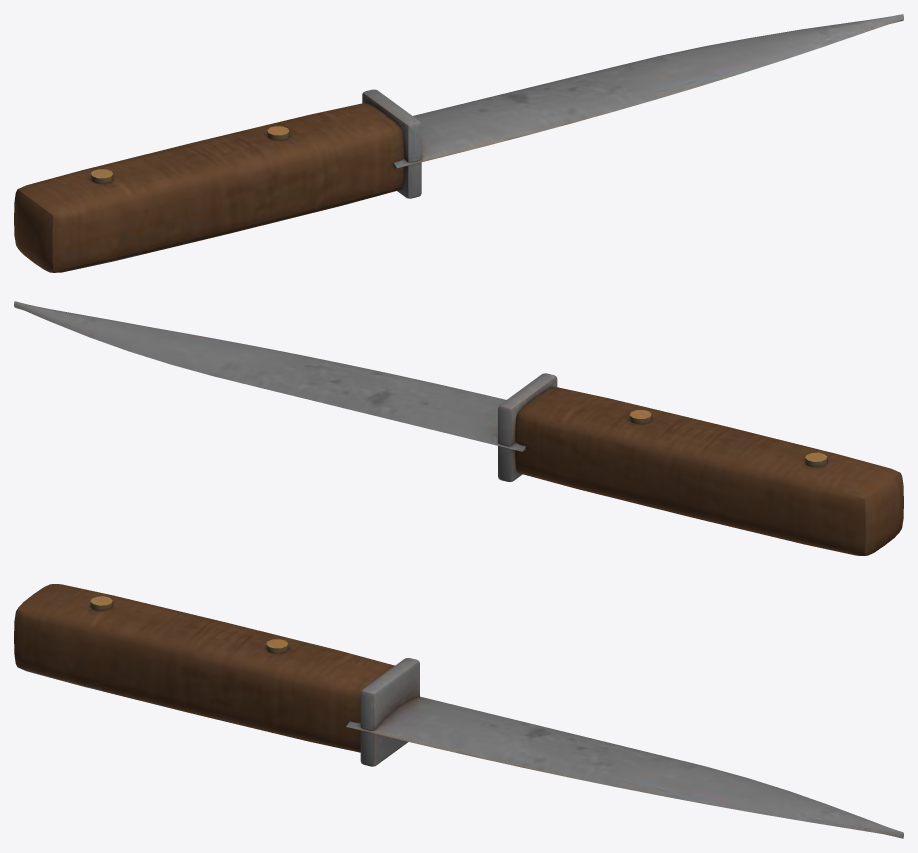
File: kitchen_knife.glb
3 views of the same model, one above another, from view 1: azimuth 30°, elevation 25°; view 2: azimuth 150°, elevation 25°; view 3: azimuth 330°, elevation 25° (orthographic).
Visible parts, largest first — view 1: kitchen_knife; view 2: kitchen_knife; view 3: kitchen_knife.
Boxes of the visible parts, box(x1,y1,x2,y2) form: kitchen_knife: box(14, 14, 903, 272); kitchen_knife: box(14, 301, 903, 555); kitchen_knife: box(14, 584, 903, 838).
Bounding box in the file's own units: 0.2239 × 0.0192 × 0.022.
Materials: 1 (1 with a texture image).
